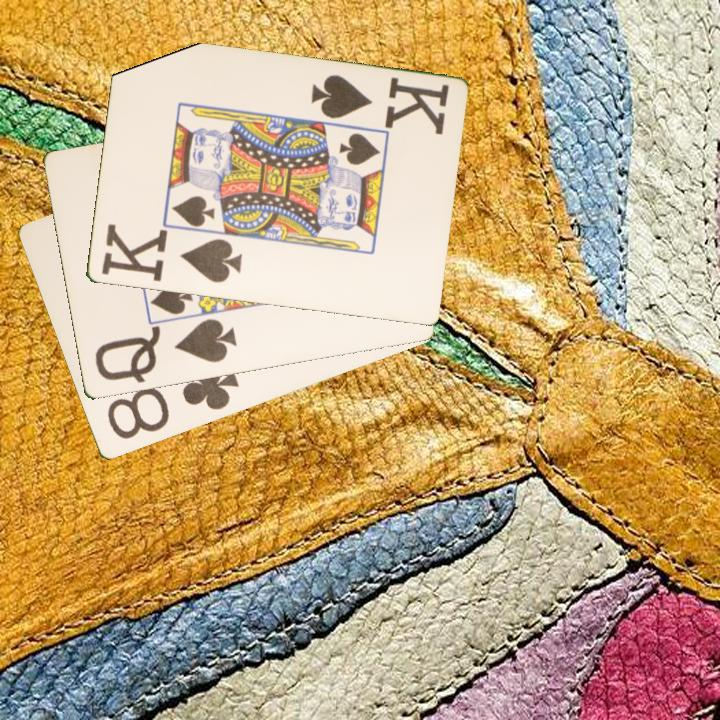8c: (103, 359, 242, 443)
Ks: (306, 71, 452, 137), (97, 222, 245, 286)
Qs: (91, 315, 240, 386)
